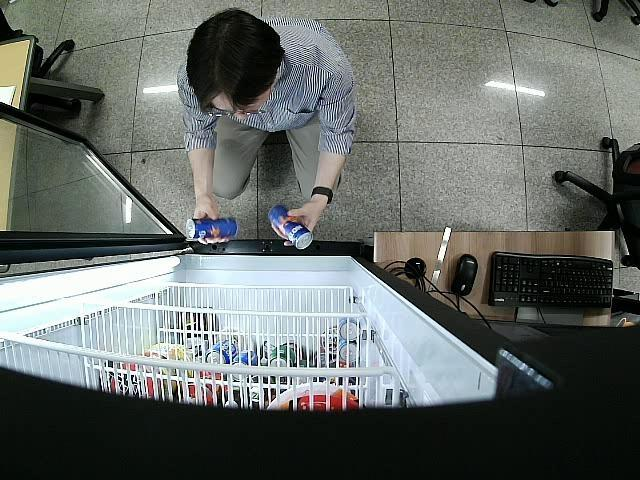16_hot6: (266, 204, 312, 251), (186, 218, 239, 239)
